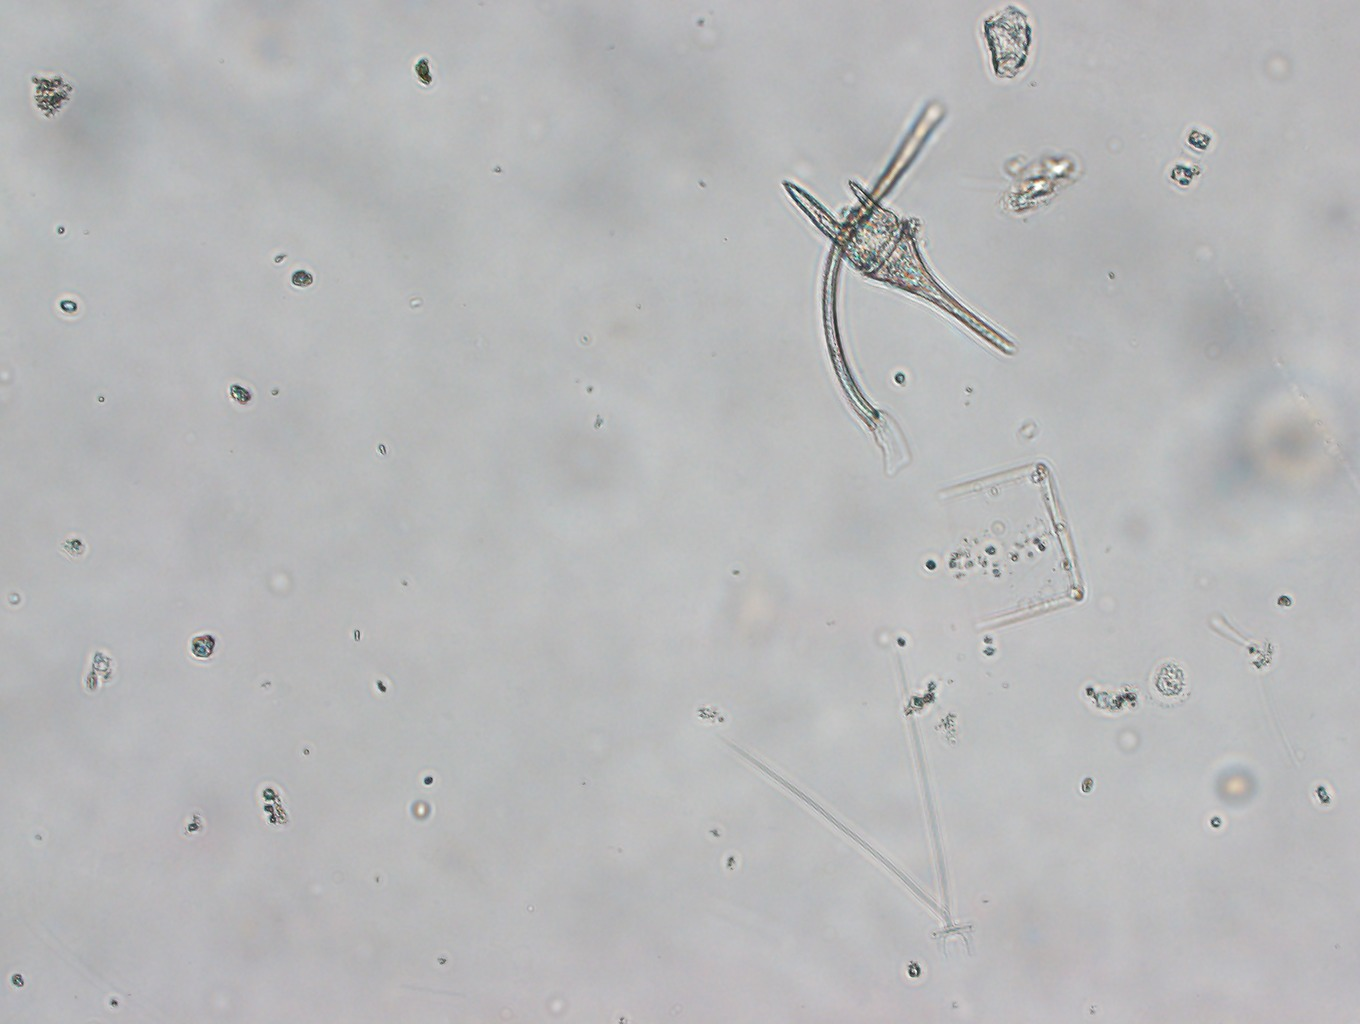ceratium furca: (770, 169, 1018, 353)
